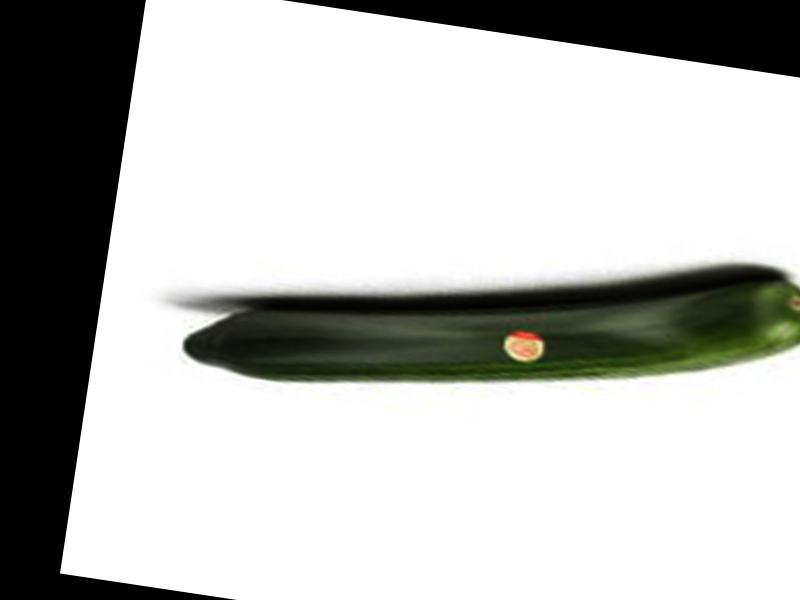Cucumber: (180, 193, 800, 459)
